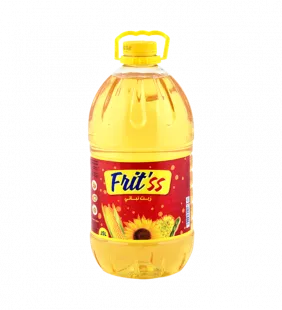FRIT'SS: (76, 20, 204, 285)
